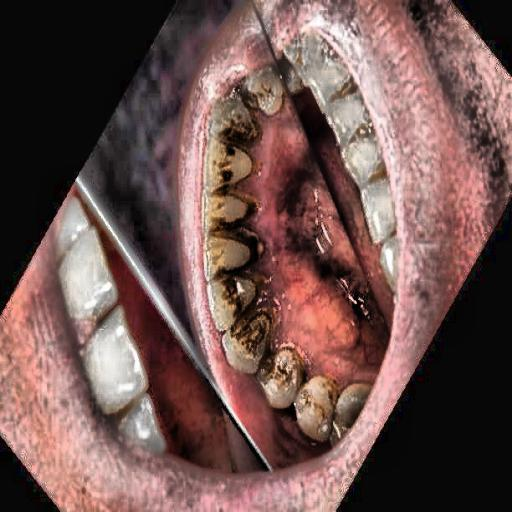Calculus: (212, 112, 348, 440)
